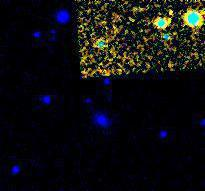star: (158, 0, 188, 28)
